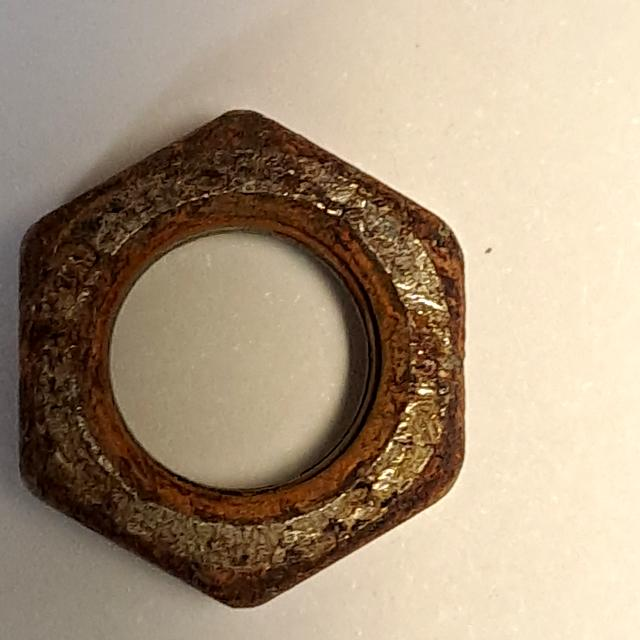Rust: (10, 98, 486, 621)
